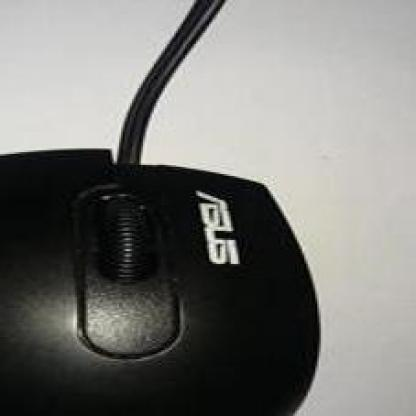mouse: (1, 120, 375, 415)
